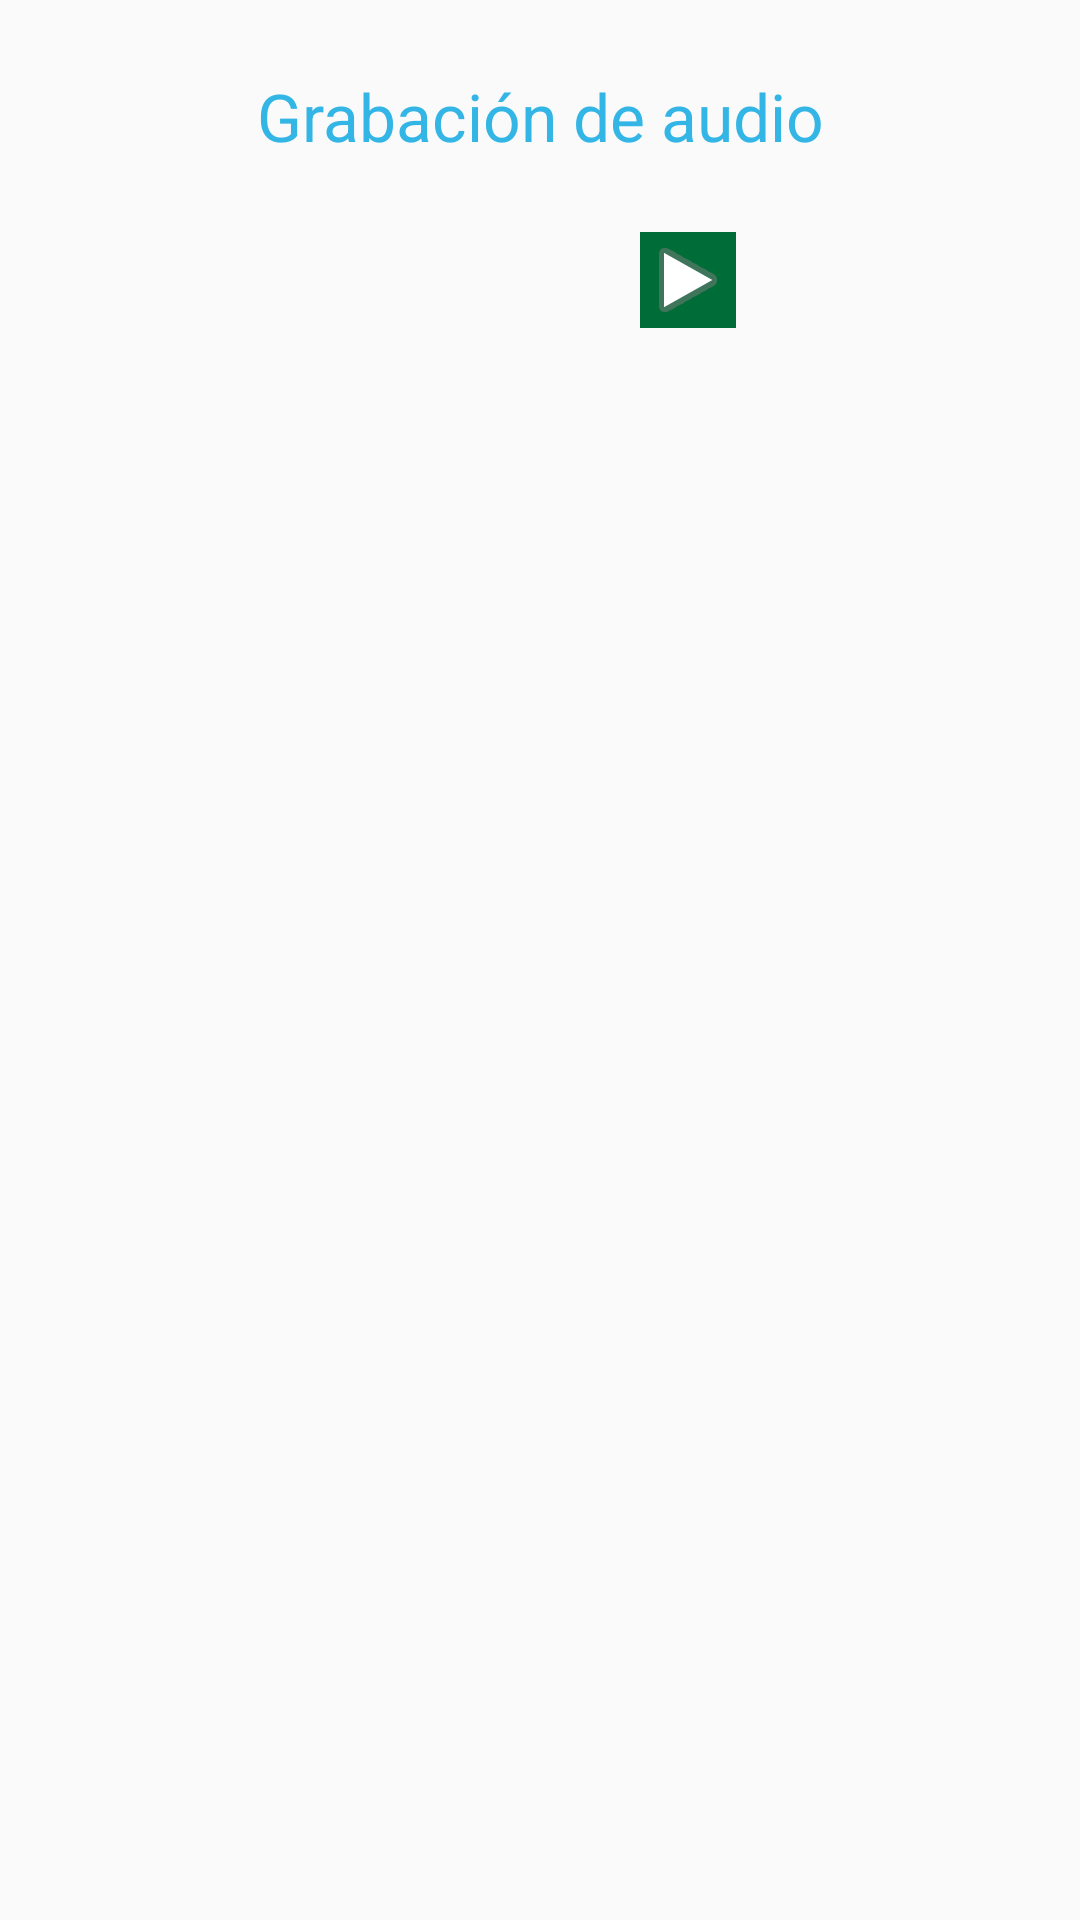

Point at icon controls on the screen. Image size 1080 × 1920, points as [x,y].
play: [688,280]
